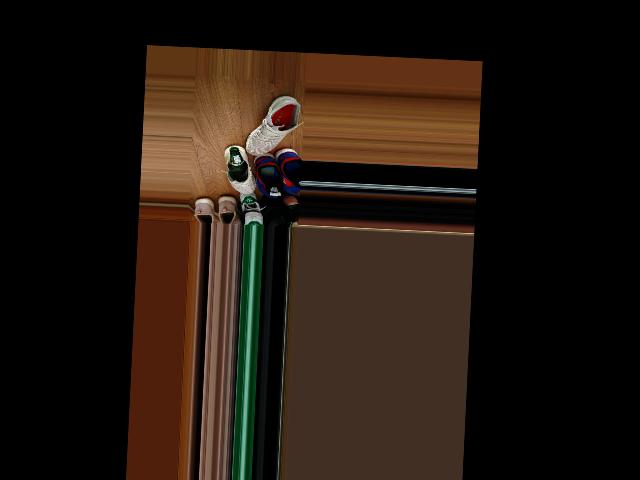beer: (226, 146, 249, 181)
